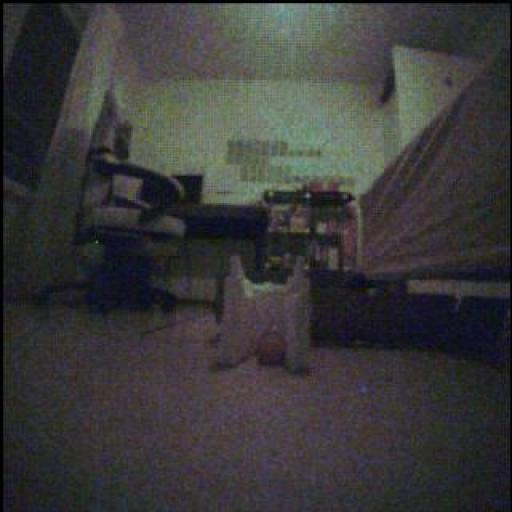basket: (255, 328, 290, 369)
